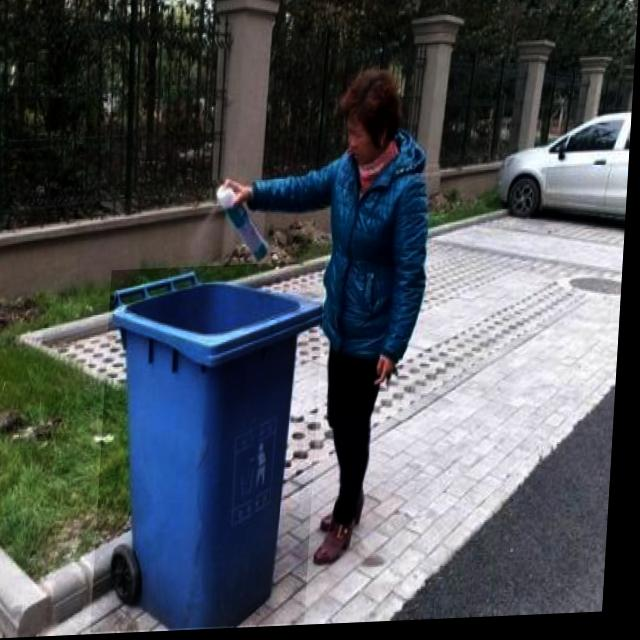garbage_bin: (98, 264, 329, 634)
